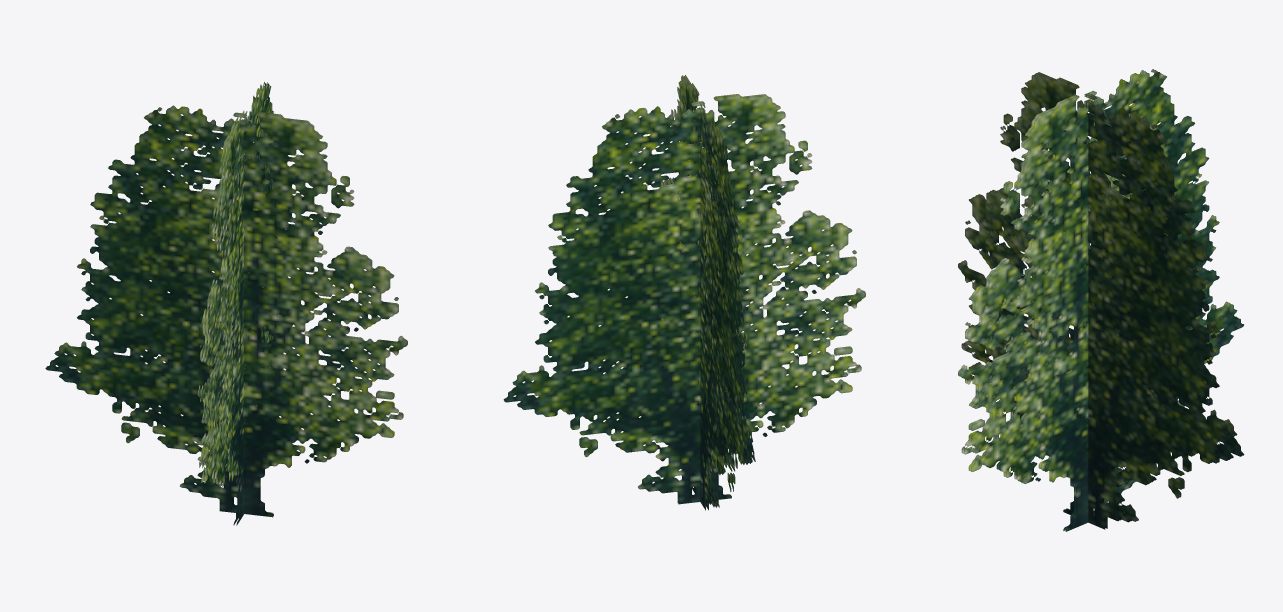
The model's file is tree118.fbx.
3 views of the same model, side by side, from view 1: azimuth 30°, elevation 25°; view 2: azimuth 150°, elevation 25°; view 3: azimuth 270°, elevation 25° (orthographic). The views are drawn at different scales.
Visible parts, largest first — view 1: tree118; view 2: tree118; view 3: tree118.
Part boxes in pixels (x1,y1,x2,y2): tree118: (45, 82, 407, 525); tree118: (503, 75, 865, 510); tree118: (958, 69, 1244, 531).
Bounding box in the file's own units: 296 × 400 × 278.
1 material, 1 textured.
